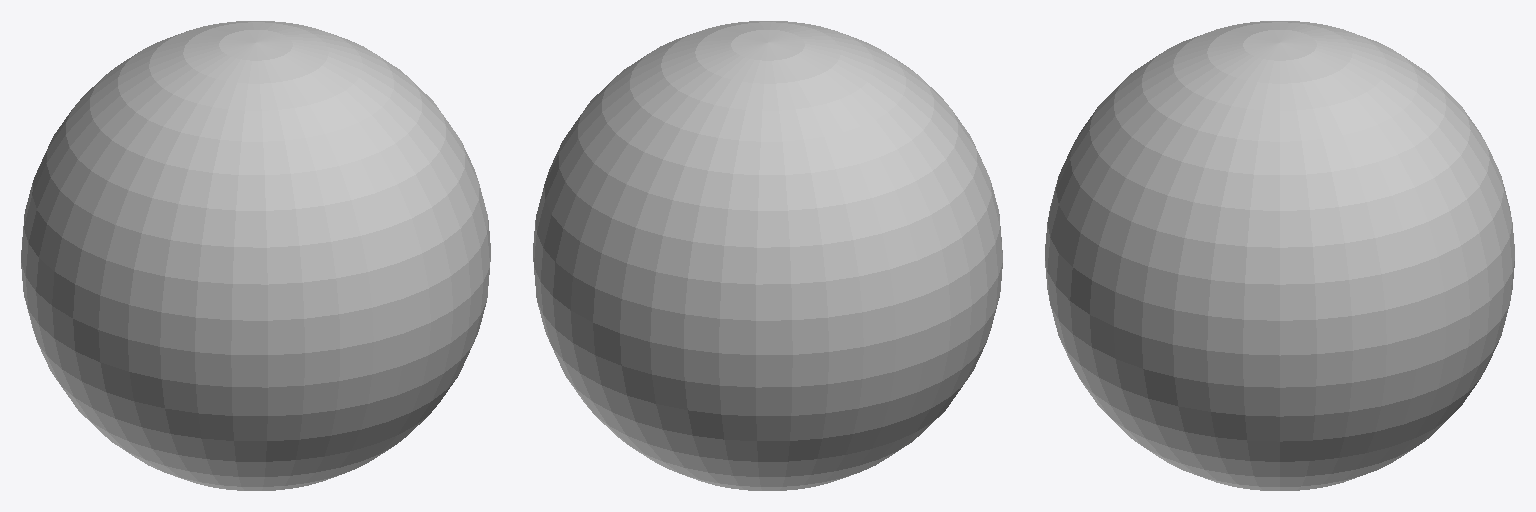
Rendered from ball.obj.
3 views of the same model, side by side, from view 1: azimuth 30°, elevation 25°; view 2: azimuth 150°, elevation 25°; view 3: azimuth 270°, elevation 25° (orthographic).
Size of the model in its own units: 2 by 2 by 2.